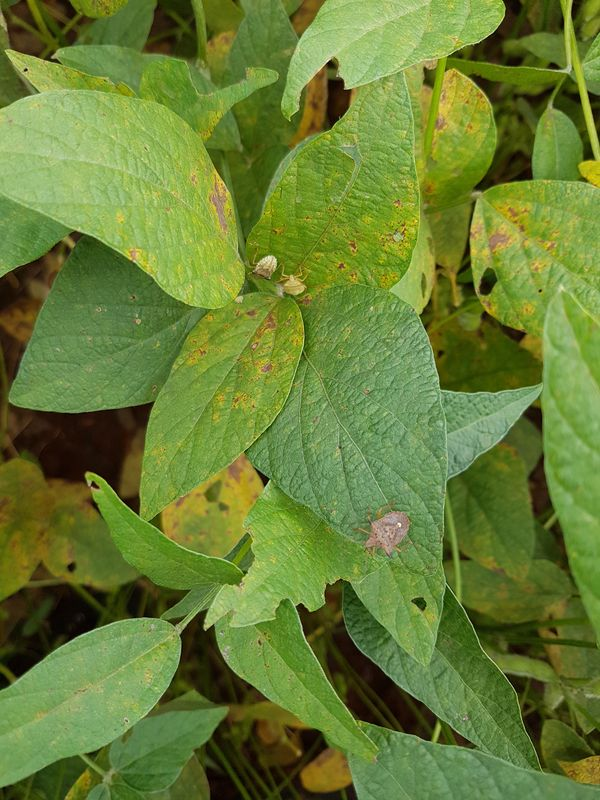Euschistus_heros_adulto: (348, 500, 426, 573)
Euschistus_heros_ninfa: (239, 243, 280, 285), (278, 258, 317, 302)
